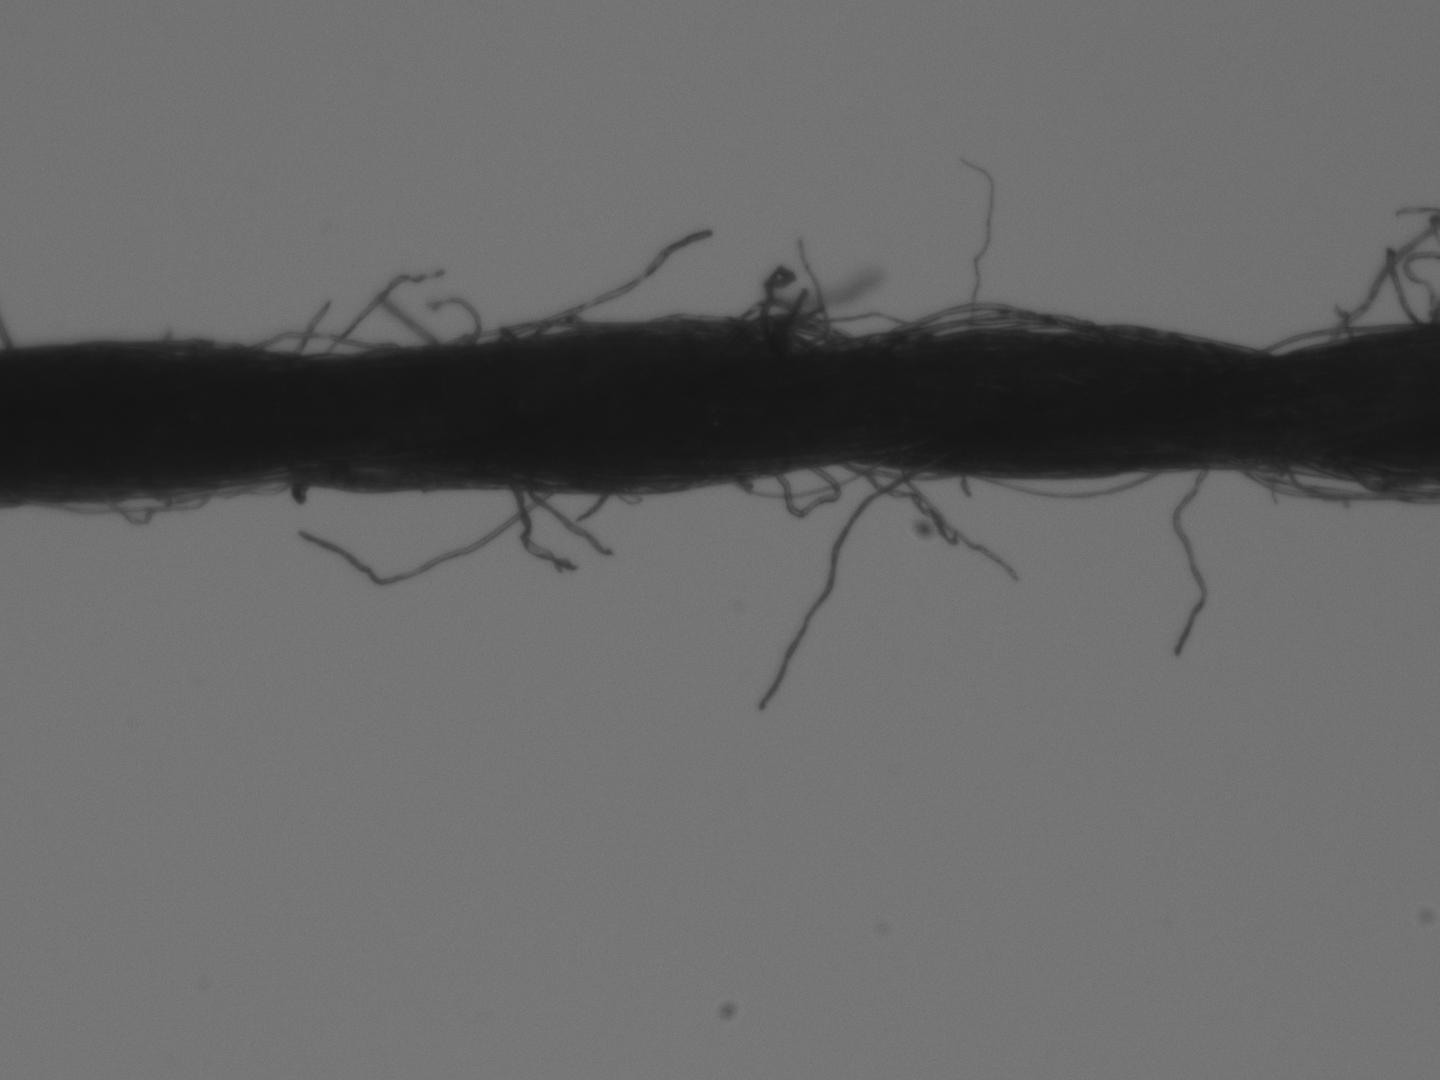loop_fiber: (880, 301, 1091, 347), (967, 467, 1154, 505), (734, 294, 841, 352), (1244, 466, 1430, 498), (734, 463, 882, 496), (791, 311, 924, 346), (452, 326, 617, 347), (774, 465, 838, 520), (248, 331, 367, 356), (535, 312, 582, 338)
protruding_fiber: (755, 462, 918, 715), (299, 492, 547, 587), (518, 227, 710, 343), (1169, 463, 1220, 666), (507, 479, 615, 556), (506, 486, 574, 581)
